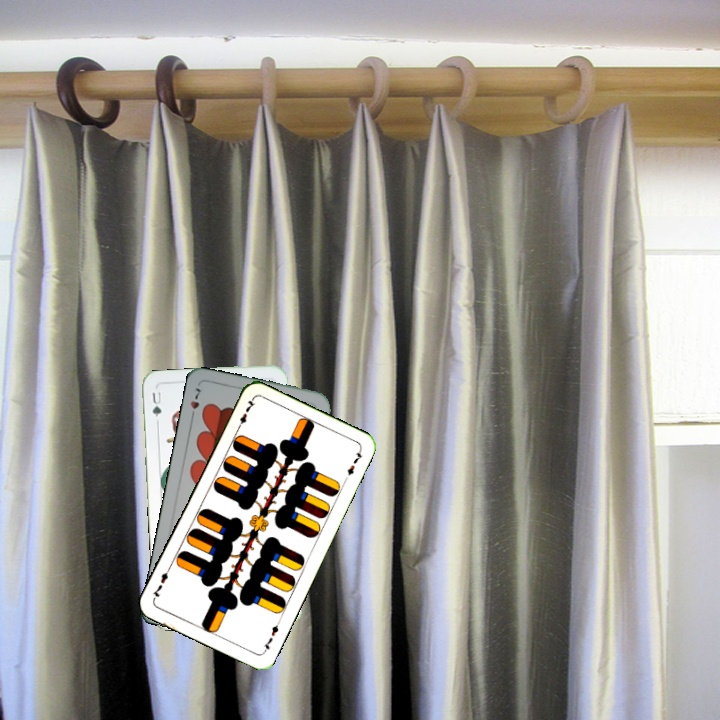E7: (233, 395, 258, 433), (260, 617, 283, 655)
GU: (148, 388, 164, 426)
H7: (186, 384, 204, 422)
